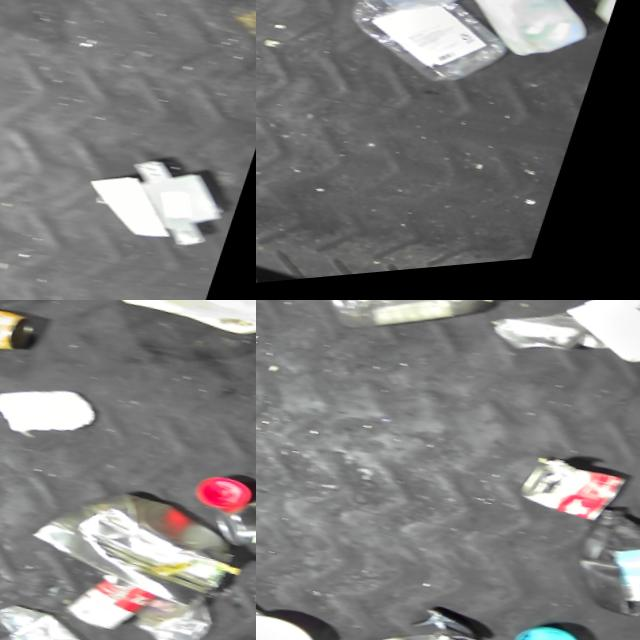can: (19, 469, 256, 634), (515, 457, 637, 540), (64, 568, 169, 640), (211, 487, 256, 573), (0, 300, 41, 365)
milk_jug: (415, 0, 624, 89), (93, 300, 256, 366)
non_white_jug: (567, 501, 640, 640)
plastic_bottle: (304, 0, 537, 115), (309, 300, 516, 367)
